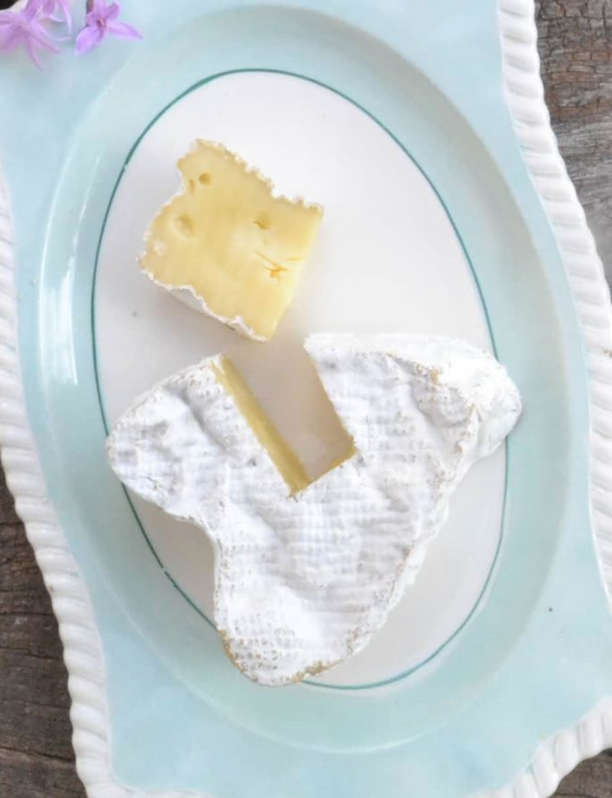camembert: (101, 331, 525, 690), (135, 136, 327, 351)
